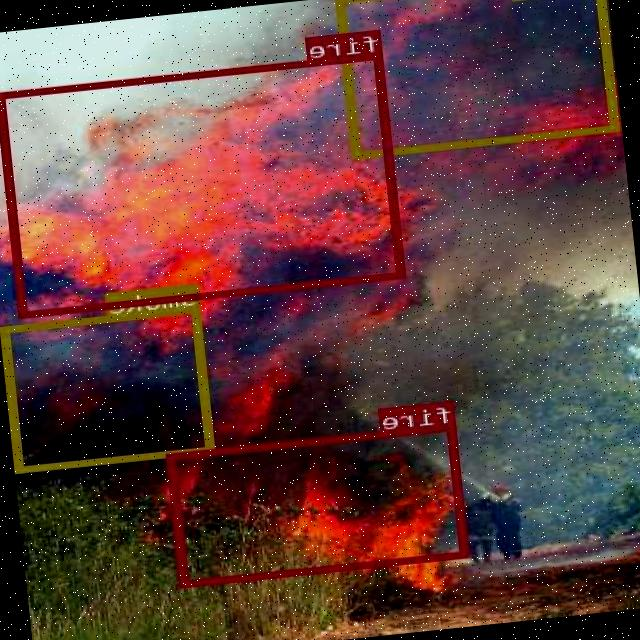fire: (0, 51, 406, 316), (169, 422, 470, 586)
smoke: (337, 0, 620, 156), (3, 304, 217, 470)
